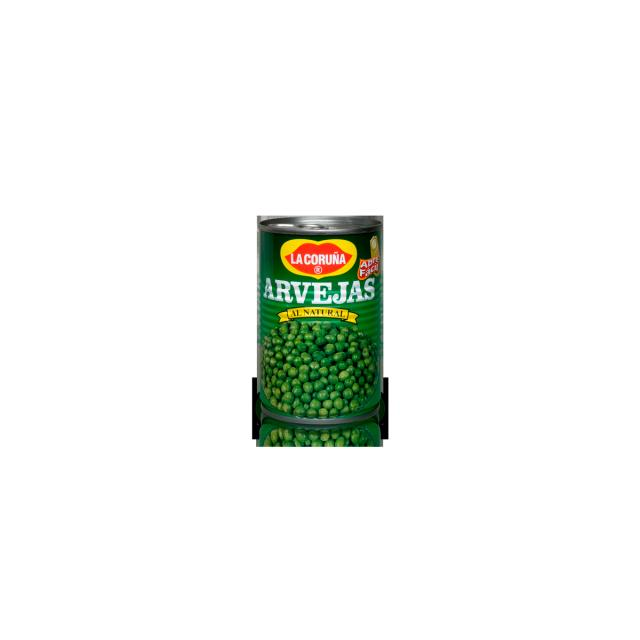arvejas: (261, 332, 379, 412)
